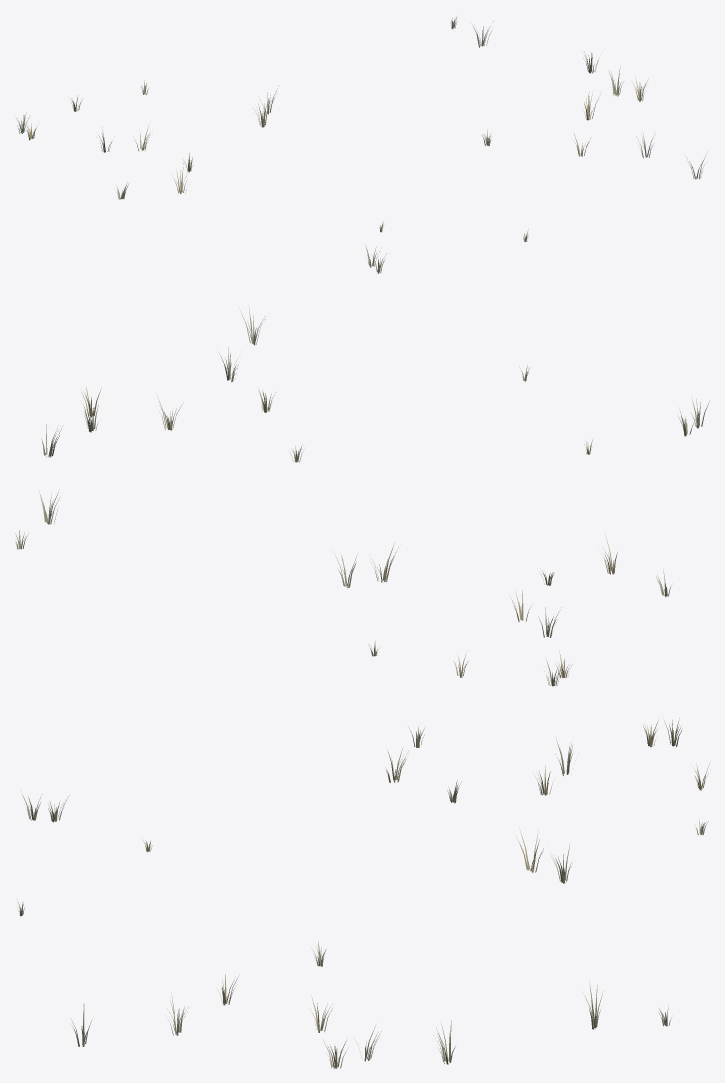
Rendered from AE_Grass_1_0.fbx.
3 renders of one model, top to bottom at view 1: azimuth 30°, elevation 25°; view 2: azimuth 150°, elevation 25°; view 3: azimuth 270°, elevation 25°, orthographic. The views are drawn at different scales.
Visible parts, largest first — view 1: AE_Grass_1_0_LOD0; view 2: AE_Grass_1_0_LOD0; view 3: AE_Grass_1_0_LOD0.
Part boxes in pixels (x1=…): AE_Grass_1_0_LOD0: x1=16, y1=17, x2=706, y2=273; AE_Grass_1_0_LOD0: x1=15, y1=306, x2=709, y2=686; AE_Grass_1_0_LOD0: x1=17, y1=718, x2=709, y2=1068.
Size of what is drawn, in the model's own units: 1765 by 109 by 1541.
